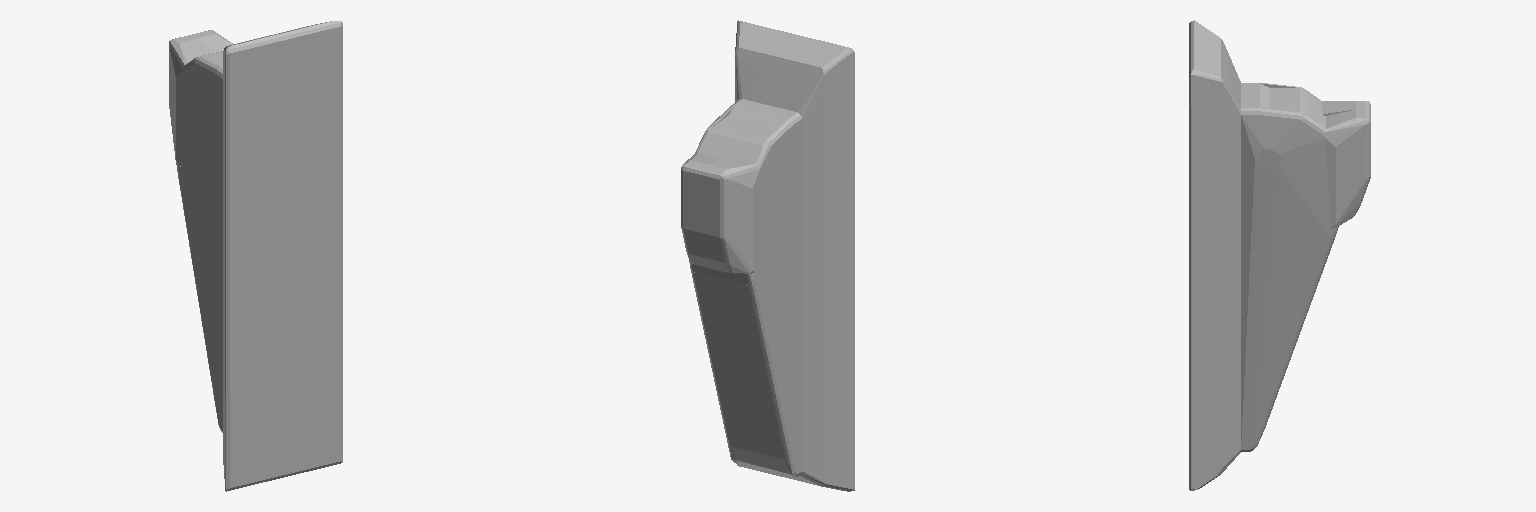
robot.urdf — root:
<robot name="root">
  <link name="link_coacd_convex_piece_0">
    <inertial>
      <origin xyz="0 0 0" rpy="0 0 0"/>
      <inertia ixx="1.50E-02" ixy="-2.31E-07" ixz="-4.39E-06" iyy="9.89E-04" iyz="5.05E-04" izz="1.59E-02"/>
    </inertial>
    <visual>
      <origin xyz="0 0 0" rpy="0 0 0"/>
      <geometry>
        <mesh filename="coacd_convex_piece_0.obj" scale="1.0000E+00 1.0000E+00 1.0000E+00"/>
      </geometry>
      <material name="">
        <color rgba="7.50E-01 7.50E-01 7.50E-01 1"/>
      </material>
    </visual>
    <collision>
      <origin xyz="0 0 0" rpy="0 0 0"/>
      <geometry>
        <mesh filename="coacd_convex_piece_0.obj" scale="1.0000E+00 1.0000E+00 1.0000E+00"/>
      </geometry>
    </collision>
  </link>
  <link name="link_coacd_convex_piece_1">
    <inertial>
      <origin xyz="0 0 0" rpy="0 0 0"/>
      <inertia ixx="7.56E-05" ixy="5.47E-05" ixz="-6.95E-06" iyy="-1.19E-04" iyz="5.35E-05" izz="2.72E-04"/>
    </inertial>
    <visual>
      <origin xyz="0 0 0" rpy="0 0 0"/>
      <geometry>
        <mesh filename="coacd_convex_piece_1.obj" scale="1.0000E+00 1.0000E+00 1.0000E+00"/>
      </geometry>
      <material name="">
        <color rgba="7.50E-01 7.50E-01 7.50E-01 1"/>
      </material>
    </visual>
    <collision>
      <origin xyz="0 0 0" rpy="0 0 0"/>
      <geometry>
        <mesh filename="coacd_convex_piece_1.obj" scale="1.0000E+00 1.0000E+00 1.0000E+00"/>
      </geometry>
    </collision>
  </link>
  <joint name="link_coacd_convex_piece_1_joint" type="fixed">
    <origin xyz="0 0 0" rpy="0 0 0"/>
    <parent link="link_coacd_convex_piece_0"/>
    <child link="link_coacd_convex_piece_1"/>
  </joint>
  <link name="link_coacd_convex_piece_2">
    <inertial>
      <origin xyz="0 0 0" rpy="0 0 0"/>
      <inertia ixx="4.01E-04" ixy="8.46E-05" ixz="6.02E-06" iyy="-2.66E-04" iyz="8.96E-05" izz="8.56E-04"/>
    </inertial>
    <visual>
      <origin xyz="0 0 0" rpy="0 0 0"/>
      <geometry>
        <mesh filename="coacd_convex_piece_2.obj" scale="1.0000E+00 1.0000E+00 1.0000E+00"/>
      </geometry>
      <material name="">
        <color rgba="7.50E-01 7.50E-01 7.50E-01 1"/>
      </material>
    </visual>
    <collision>
      <origin xyz="0 0 0" rpy="0 0 0"/>
      <geometry>
        <mesh filename="coacd_convex_piece_2.obj" scale="1.0000E+00 1.0000E+00 1.0000E+00"/>
      </geometry>
    </collision>
  </link>
  <joint name="link_coacd_convex_piece_2_joint" type="fixed">
    <origin xyz="0 0 0" rpy="0 0 0"/>
    <parent link="link_coacd_convex_piece_1"/>
    <child link="link_coacd_convex_piece_2"/>
  </joint>
  <link name="link_coacd_convex_piece_3">
    <inertial>
      <origin xyz="0 0 0" rpy="0 0 0"/>
      <inertia ixx="6.58E-04" ixy="-1.23E-07" ixz="-5.28E-07" iyy="-3.02E-04" iyz="1.23E-04" izz="1.00E-03"/>
    </inertial>
    <visual>
      <origin xyz="0 0 0" rpy="0 0 0"/>
      <geometry>
        <mesh filename="coacd_convex_piece_3.obj" scale="1.0000E+00 1.0000E+00 1.0000E+00"/>
      </geometry>
      <material name="">
        <color rgba="7.50E-01 7.50E-01 7.50E-01 1"/>
      </material>
    </visual>
    <collision>
      <origin xyz="0 0 0" rpy="0 0 0"/>
      <geometry>
        <mesh filename="coacd_convex_piece_3.obj" scale="1.0000E+00 1.0000E+00 1.0000E+00"/>
      </geometry>
    </collision>
  </link>
  <joint name="link_coacd_convex_piece_3_joint" type="fixed">
    <origin xyz="0 0 0" rpy="0 0 0"/>
    <parent link="link_coacd_convex_piece_2"/>
    <child link="link_coacd_convex_piece_3"/>
  </joint>
  <link name="link_coacd_convex_piece_4">
    <inertial>
      <origin xyz="0 0 0" rpy="0 0 0"/>
      <inertia ixx="6.41E-04" ixy="8.97E-05" ixz="-5.44E-05" iyy="3.23E-06" iyz="4.02E-04" izz="6.74E-04"/>
    </inertial>
    <visual>
      <origin xyz="0 0 0" rpy="0 0 0"/>
      <geometry>
        <mesh filename="coacd_convex_piece_4.obj" scale="1.0000E+00 1.0000E+00 1.0000E+00"/>
      </geometry>
      <material name="">
        <color rgba="7.50E-01 7.50E-01 7.50E-01 1"/>
      </material>
    </visual>
    <collision>
      <origin xyz="0 0 0" rpy="0 0 0"/>
      <geometry>
        <mesh filename="coacd_convex_piece_4.obj" scale="1.0000E+00 1.0000E+00 1.0000E+00"/>
      </geometry>
    </collision>
  </link>
  <joint name="link_coacd_convex_piece_4_joint" type="fixed">
    <origin xyz="0 0 0" rpy="0 0 0"/>
    <parent link="link_coacd_convex_piece_3"/>
    <child link="link_coacd_convex_piece_4"/>
  </joint>
  <link name="link_coacd_convex_piece_5">
    <inertial>
      <origin xyz="0 0 0" rpy="0 0 0"/>
      <inertia ixx="7.19E-04" ixy="-1.01E-04" ixz="5.89E-05" iyy="-8.84E-06" iyz="4.45E-04" izz="7.69E-04"/>
    </inertial>
    <visual>
      <origin xyz="0 0 0" rpy="0 0 0"/>
      <geometry>
        <mesh filename="coacd_convex_piece_5.obj" scale="1.0000E+00 1.0000E+00 1.0000E+00"/>
      </geometry>
      <material name="">
        <color rgba="7.50E-01 7.50E-01 7.50E-01 1"/>
      </material>
    </visual>
    <collision>
      <origin xyz="0 0 0" rpy="0 0 0"/>
      <geometry>
        <mesh filename="coacd_convex_piece_5.obj" scale="1.0000E+00 1.0000E+00 1.0000E+00"/>
      </geometry>
    </collision>
  </link>
  <joint name="link_coacd_convex_piece_5_joint" type="fixed">
    <origin xyz="0 0 0" rpy="0 0 0"/>
    <parent link="link_coacd_convex_piece_4"/>
    <child link="link_coacd_convex_piece_5"/>
  </joint>
  <link name="link_coacd_convex_piece_6">
    <inertial>
      <origin xyz="0 0 0" rpy="0 0 0"/>
      <inertia ixx="5.77E-04" ixy="-1.21E-07" ixz="-1.65E-07" iyy="-1.17E-04" iyz="-1.14E-04" izz="7.11E-04"/>
    </inertial>
    <visual>
      <origin xyz="0 0 0" rpy="0 0 0"/>
      <geometry>
        <mesh filename="coacd_convex_piece_6.obj" scale="1.0000E+00 1.0000E+00 1.0000E+00"/>
      </geometry>
      <material name="">
        <color rgba="7.50E-01 7.50E-01 7.50E-01 1"/>
      </material>
    </visual>
    <collision>
      <origin xyz="0 0 0" rpy="0 0 0"/>
      <geometry>
        <mesh filename="coacd_convex_piece_6.obj" scale="1.0000E+00 1.0000E+00 1.0000E+00"/>
      </geometry>
    </collision>
  </link>
  <joint name="link_coacd_convex_piece_6_joint" type="fixed">
    <origin xyz="0 0 0" rpy="0 0 0"/>
    <parent link="link_coacd_convex_piece_5"/>
    <child link="link_coacd_convex_piece_6"/>
  </joint>
  <link name="link_coacd_convex_piece_7">
    <inertial>
      <origin xyz="0 0 0" rpy="0 0 0"/>
      <inertia ixx="2.41E-04" ixy="-9.16E-05" ixz="-2.91E-07" iyy="-8.26E-05" iyz="1.07E-05" izz="3.76E-04"/>
    </inertial>
    <visual>
      <origin xyz="0 0 0" rpy="0 0 0"/>
      <geometry>
        <mesh filename="coacd_convex_piece_7.obj" scale="1.0000E+00 1.0000E+00 1.0000E+00"/>
      </geometry>
      <material name="">
        <color rgba="7.50E-01 7.50E-01 7.50E-01 1"/>
      </material>
    </visual>
    <collision>
      <origin xyz="0 0 0" rpy="0 0 0"/>
      <geometry>
        <mesh filename="coacd_convex_piece_7.obj" scale="1.0000E+00 1.0000E+00 1.0000E+00"/>
      </geometry>
    </collision>
  </link>
  <joint name="link_coacd_convex_piece_7_joint" type="fixed">
    <origin xyz="0 0 0" rpy="0 0 0"/>
    <parent link="link_coacd_convex_piece_6"/>
    <child link="link_coacd_convex_piece_7"/>
  </joint>
  <link name="link_coacd_convex_piece_8">
    <inertial>
      <origin xyz="0 0 0" rpy="0 0 0"/>
      <inertia ixx="3.70E-04" ixy="1.49E-06" ixz="-4.77E-07" iyy="-6.69E-05" iyz="5.93E-05" izz="4.46E-04"/>
    </inertial>
    <visual>
      <origin xyz="0 0 0" rpy="0 0 0"/>
      <geometry>
        <mesh filename="coacd_convex_piece_8.obj" scale="1.0000E+00 1.0000E+00 1.0000E+00"/>
      </geometry>
      <material name="">
        <color rgba="7.50E-01 7.50E-01 7.50E-01 1"/>
      </material>
    </visual>
    <collision>
      <origin xyz="0 0 0" rpy="0 0 0"/>
      <geometry>
        <mesh filename="coacd_convex_piece_8.obj" scale="1.0000E+00 1.0000E+00 1.0000E+00"/>
      </geometry>
    </collision>
  </link>
  <joint name="link_coacd_convex_piece_8_joint" type="fixed">
    <origin xyz="0 0 0" rpy="0 0 0"/>
    <parent link="link_coacd_convex_piece_7"/>
    <child link="link_coacd_convex_piece_8"/>
  </joint>
</robot>

--- Render facts (derived) ---
3 views of the same robot in one strip: view 1: azimuth 30°, elevation 25°; view 2: azimuth 150°, elevation 25°; view 3: azimuth 270°, elevation 25° (orthographic).
Model root with 9 links and 8 joints (8 fixed), rooted at link_coacd_convex_piece_0, posed every joint at zero.
Visible links, largest first — view 1: link_coacd_convex_piece_0, link_coacd_convex_piece_1, link_coacd_convex_piece_7, link_coacd_convex_piece_5; view 2: link_coacd_convex_piece_0, link_coacd_convex_piece_3, link_coacd_convex_piece_1, link_coacd_convex_piece_5, link_coacd_convex_piece_7, link_coacd_convex_piece_4, link_coacd_convex_piece_8, link_coacd_convex_piece_6, link_coacd_convex_piece_2; view 3: link_coacd_convex_piece_2, link_coacd_convex_piece_0, link_coacd_convex_piece_4, link_coacd_convex_piece_8, link_coacd_convex_piece_6, link_coacd_convex_piece_5.
Boxes of the visible links, x1,y1,x2,y2 form: link_coacd_convex_piece_0: (223,21,342,491); link_coacd_convex_piece_1: (176,163,222,432); link_coacd_convex_piece_7: (183,57,222,196); link_coacd_convex_piece_5: (169,34,211,167); link_coacd_convex_piece_0: (735,20,854,491); link_coacd_convex_piece_3: (693,264,788,474); link_coacd_convex_piece_1: (744,238,801,477); link_coacd_convex_piece_5: (701,157,759,273); link_coacd_convex_piece_7: (754,112,801,267); link_coacd_convex_piece_4: (681,153,719,267); link_coacd_convex_piece_8: (700,115,777,162); link_coacd_convex_piece_6: (729,99,794,126); link_coacd_convex_piece_2: (689,99,743,462); link_coacd_convex_piece_2: (1241,107,1338,451); link_coacd_convex_piece_0: (1189,20,1240,490); link_coacd_convex_piece_4: (1326,109,1370,227); link_coacd_convex_piece_8: (1270,88,1325,127); link_coacd_convex_piece_6: (1241,83,1269,108); link_coacd_convex_piece_5: (1322,101,1370,115).
Size in the robot's own frame: 0.4927 by 0.6956 by 1.78 metres.
Meshes: 9 distinct files referenced, 9 mesh visuals loaded (9 OBJ).
